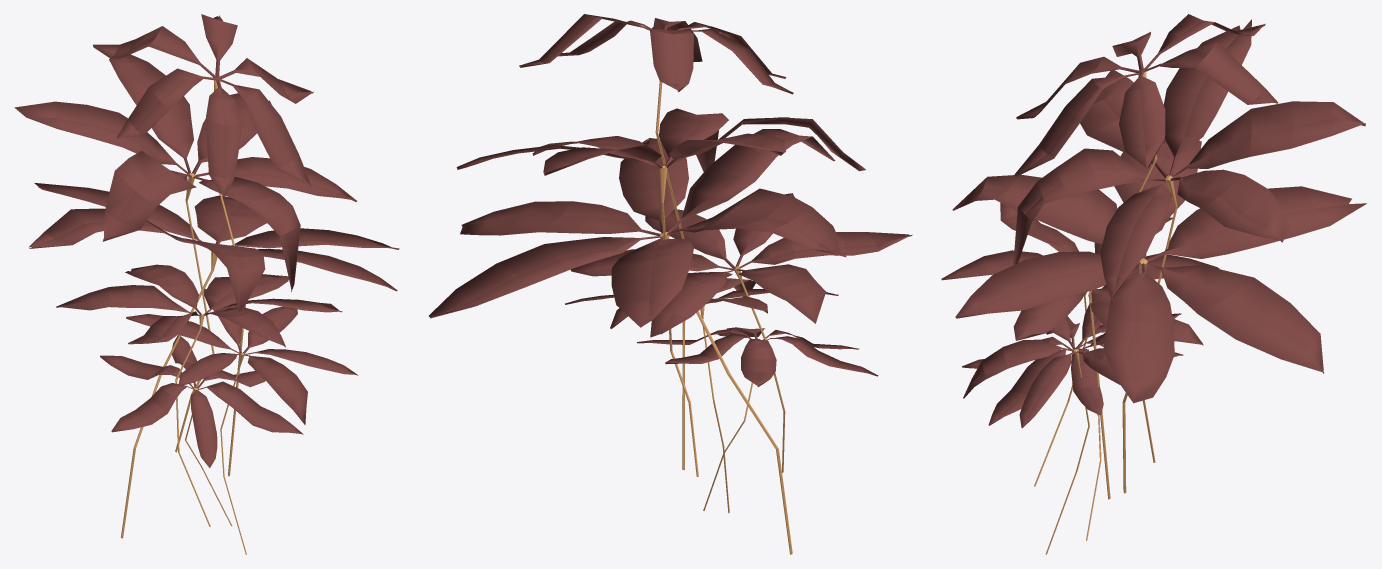
The model's file is MBJ_PlantPack01_Plant03v001.fbx.
3 views of the same model, side by side, from view 1: azimuth 30°, elevation 25°; view 2: azimuth 150°, elevation 25°; view 3: azimuth 270°, elevation 25° (orthographic). The views are drawn at different scales.
Visible parts, largest first — view 1: Flower03Plant; view 2: Flower03Plant; view 3: Flower03Plant.
Boxes of the visible parts, <box> form: Flower03Plant: <box>14,14,399,554</box>; Flower03Plant: <box>429,14,912,554</box>; Flower03Plant: <box>941,14,1366,554</box>.
Bounding box in the file's own units: 74.65 × 70.02 × 96.04.
